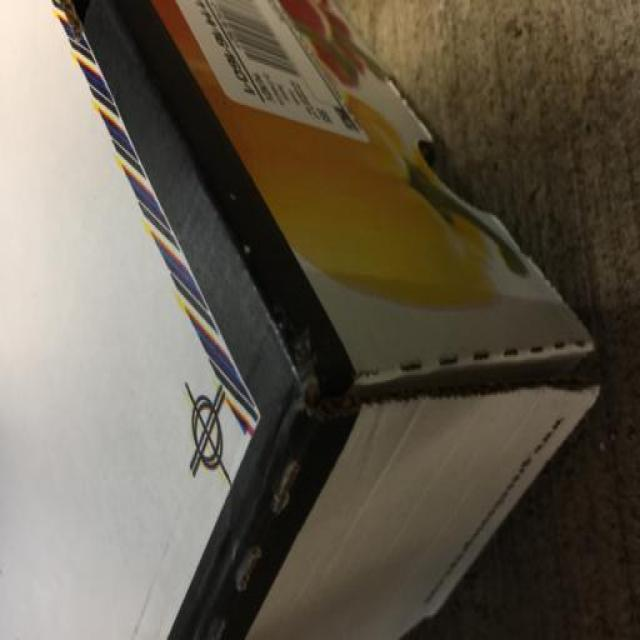cardboard: (1, 1, 609, 640)
